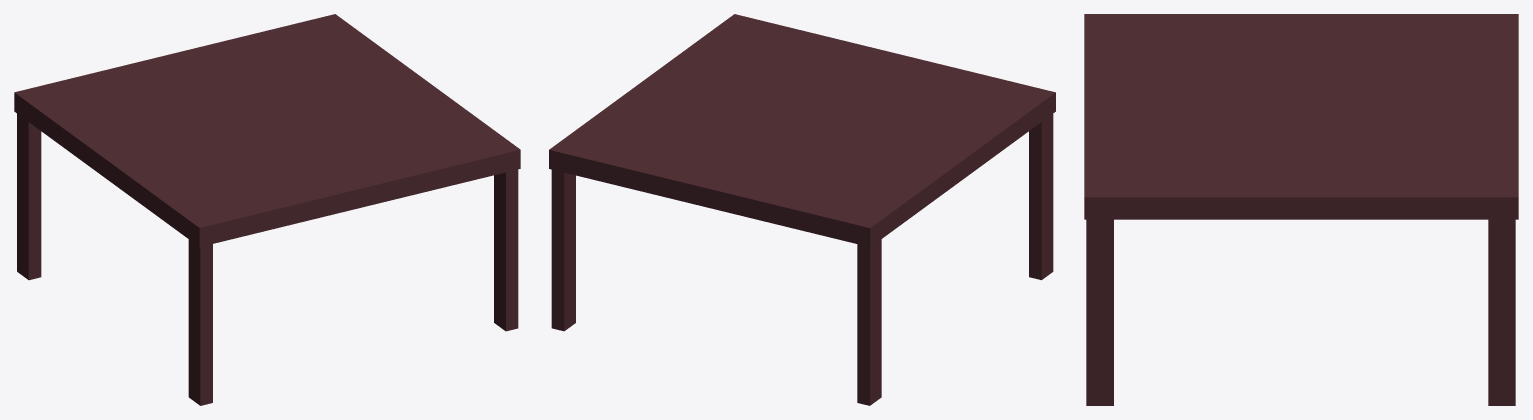
Rendered from Desk.fbx.
3 renders of one model, left to right at view 1: azimuth 30°, elevation 25°; view 2: azimuth 150°, elevation 25°; view 3: azimuth 270°, elevation 25°, orthographic. The views are drawn at different scales.
Visible parts, largest first — view 1: Table; view 2: Table; view 3: Table.
Part boxes in pixels (<box>): Table: <box>14,14,520,405</box>; Table: <box>549,14,1055,405</box>; Table: <box>1084,14,1518,405</box>.
Bounding box in the file's own units: 120 × 120 × 63.83.
